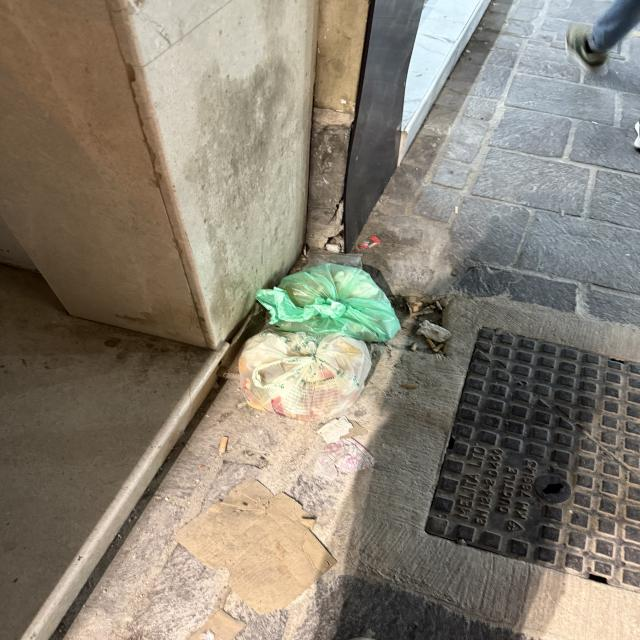Organic Waste -White Bags-: (240, 327, 370, 421)
Others Waste: (257, 264, 401, 341)
